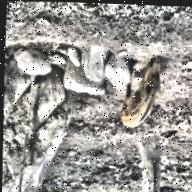boar: (110, 54, 173, 136)
